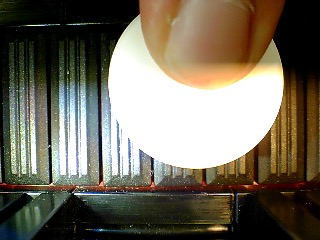BLANK: (106, 5, 285, 170)
